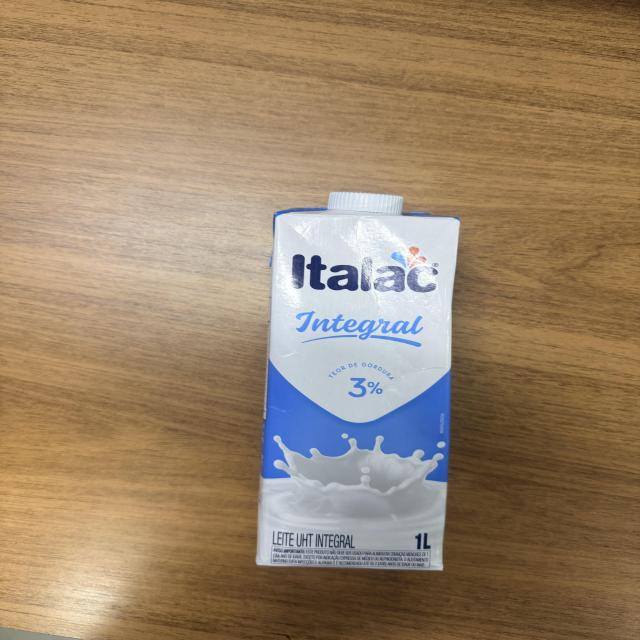Caixa de Leite: (258, 201, 462, 570)
